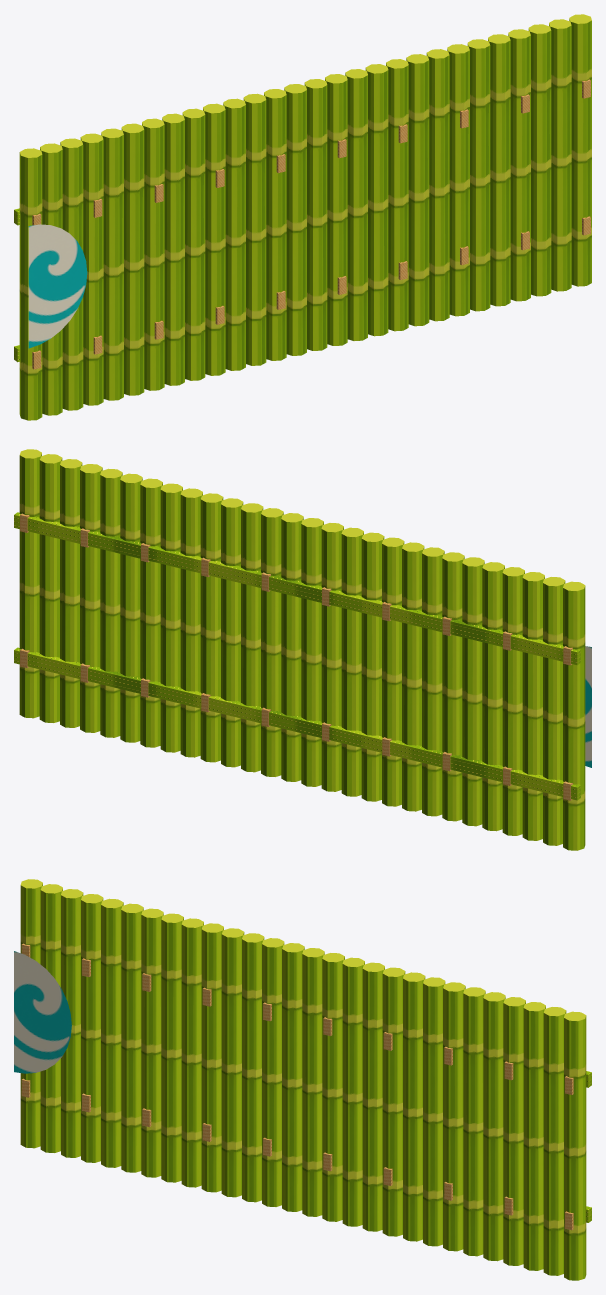
The model's file is gate-24-north-gate-right-DhJusLUq.glb.
The picture shows the model from 3 angles, top to bottom: view 1: azimuth 30°, elevation 25°; view 2: azimuth 150°, elevation 25°; view 3: azimuth 330°, elevation 25°; orthographic projection.
Parts seen in each view (by area): view 1: HI_Gate_24_north-gate_right; view 2: HI_Gate_24_north-gate_right; view 3: HI_Gate_24_north-gate_right.
Part boxes in pixels (x1,y1,x2,y2): HI_Gate_24_north-gate_right: [14, 14, 591, 420]; HI_Gate_24_north-gate_right: [14, 449, 591, 850]; HI_Gate_24_north-gate_right: [14, 879, 591, 1280].
Bounding box in the file's own units: 5.45 × 2.4 × 0.25.
Materials: 1 (1 with a texture image).
